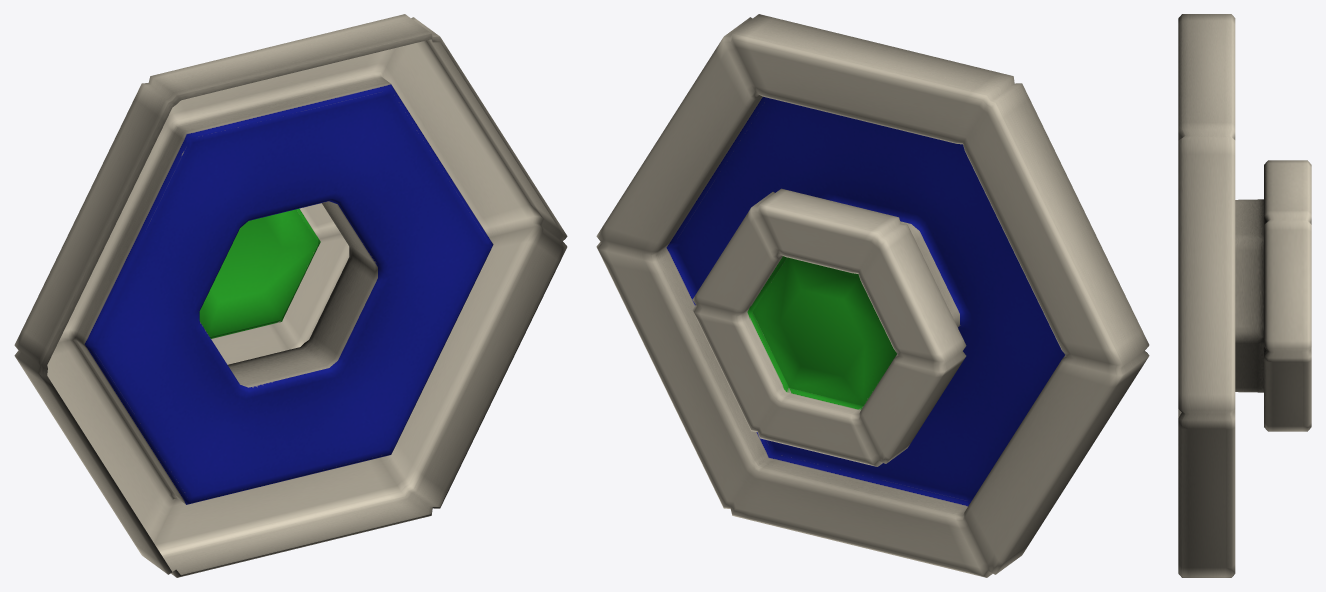
Rendered from fountain.fbx.
3 renders of one model, left to right at view 1: azimuth 30°, elevation 25°; view 2: azimuth 150°, elevation 25°; view 3: azimuth 270°, elevation 25°, orthographic. The views are drawn at different scales.
Parts seen in each view (by area): view 1: Fountain; view 2: Fountain; view 3: Fountain.
Part boxes in pixels (left/top/right/bottom): Fountain: left=14, top=14, right=567, bottom=577; Fountain: left=596, top=14, right=1149, bottom=577; Fountain: left=1178, top=14, right=1311, bottom=577.
Bounding box in the file's own units: 59360 × 51962 × 14000.
